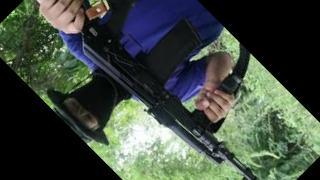larga: (51, 1, 258, 180)
